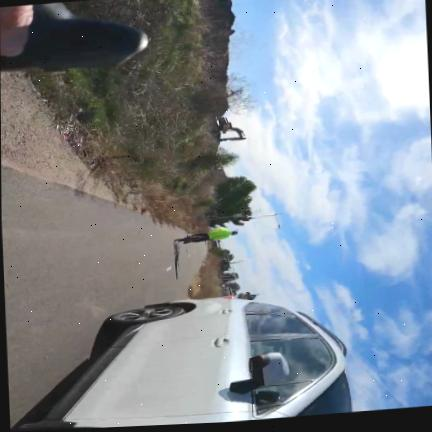Bike_Lane: (1, 166, 203, 430)
